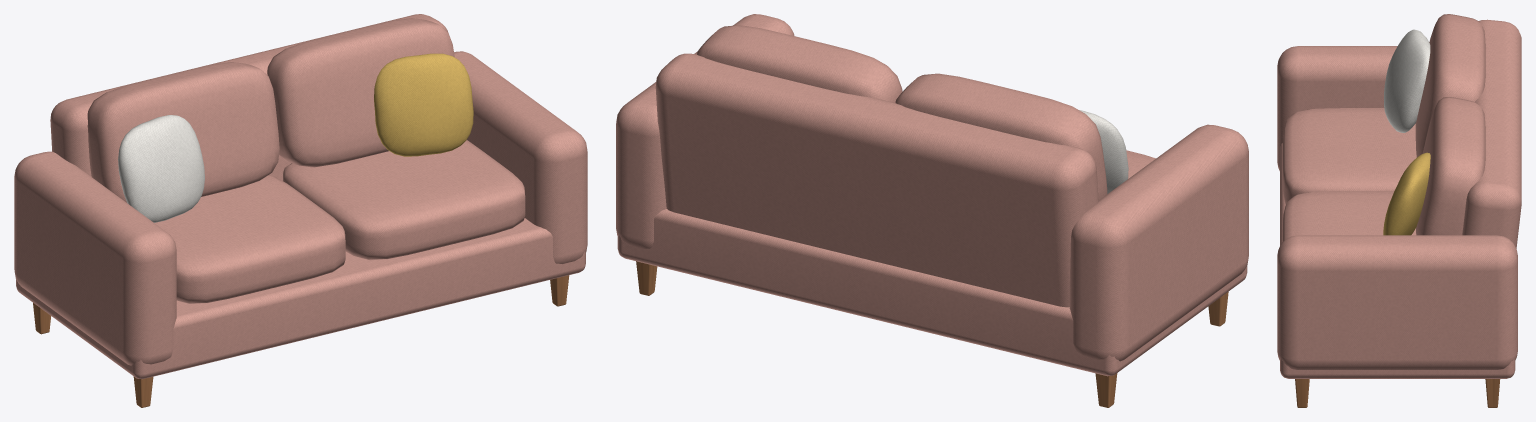
The model's file is prop_sofa.glb.
The picture shows the model from 3 angles, left to right: view 1: azimuth 30°, elevation 25°; view 2: azimuth 150°, elevation 25°; view 3: azimuth 270°, elevation 25°; orthographic projection. The views are drawn at different scales.
Visible parts, largest first — view 1: prop_sofa; view 2: prop_sofa; view 3: prop_sofa.
Boxes of the visible parts, bbox=[...] form: prop_sofa: bbox=[14, 14, 587, 407]; prop_sofa: bbox=[616, 14, 1248, 407]; prop_sofa: bbox=[1277, 14, 1521, 407].
Size of the model in its own units: 2.25 by 1.12 by 1.09.
Materials: 4 (4 with a texture image).
